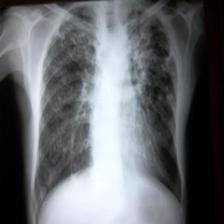tuberculosis: (28, 0, 184, 224)
